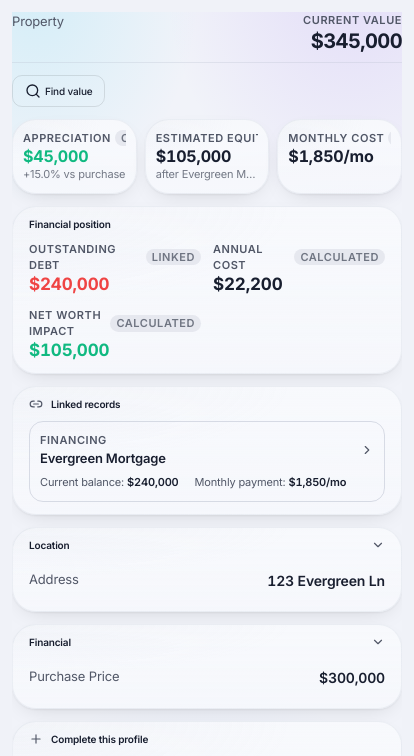
the composed Overview reaches the screen › offers a market lookup on an asset and only writes the estimate on request
The width and height of the screenshot is (414, 756).
Later steps or results of the test are not shown.
Click the button with test id "overview-find-value". click: (59, 90)
box: [12,74,106,106]
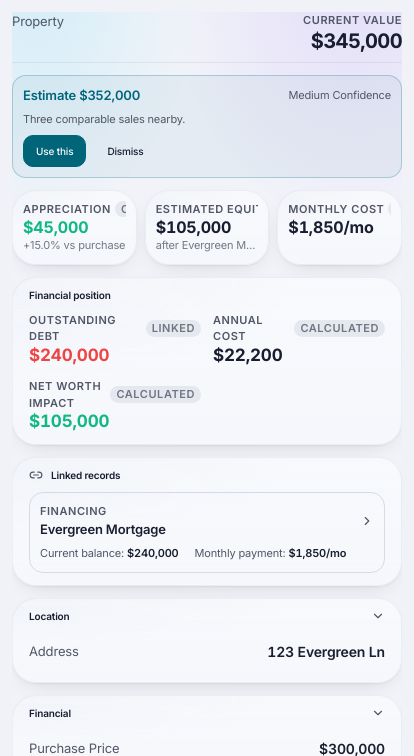
expect the element with test id "overview-find-value-result" shows "$352,000": met, box [79,86,140,102]
